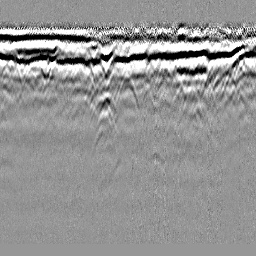cavity: (115, 71, 139, 109)
